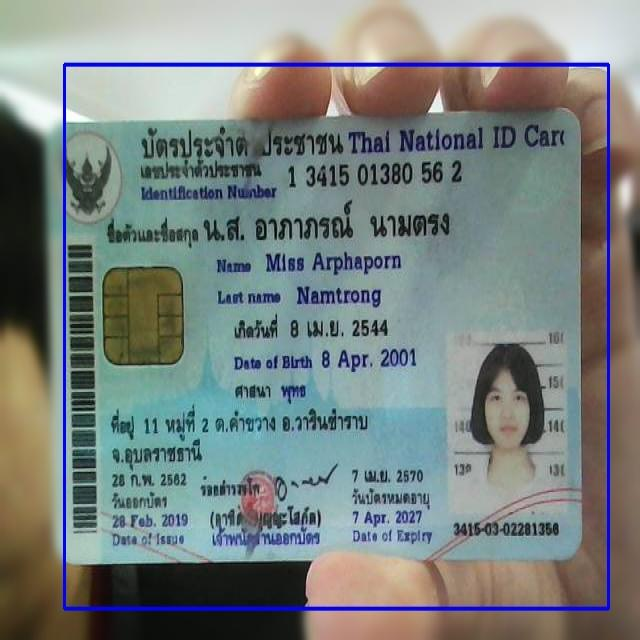Address_th: (104, 403, 384, 472)
Date_of_Birth: (319, 343, 421, 377)
Date_of_Expiry: (348, 506, 426, 528)
Date_of_Issue: (108, 509, 193, 533)
First_Name: (262, 246, 404, 280)
ID_Number: (285, 158, 469, 194)
Image: (450, 332, 567, 523)
Last_Name: (292, 282, 386, 312)
Thai_Name: (201, 198, 455, 243)
